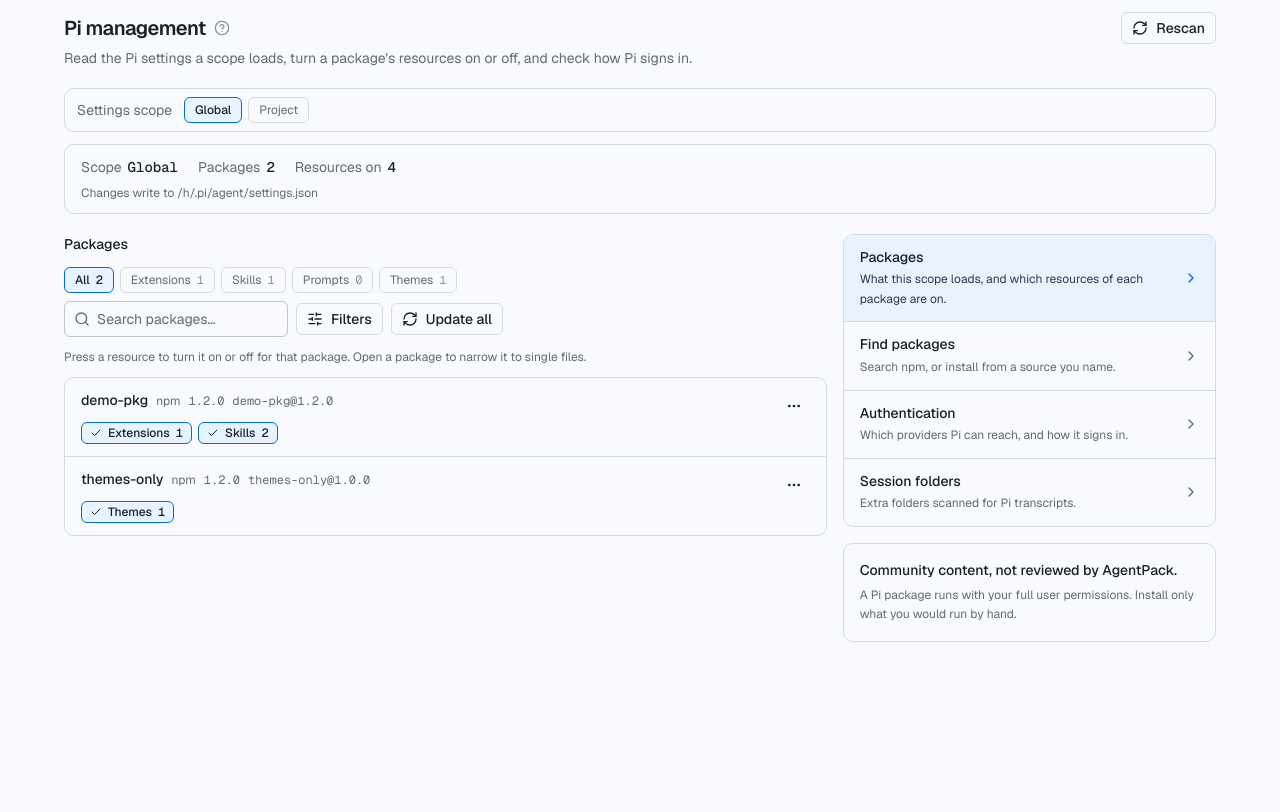
Test case: filters the list by resource kind and by search text
Step 1. Click the 1st button "Themes 1" → coordinates (418, 280), box [379,267,457,293]
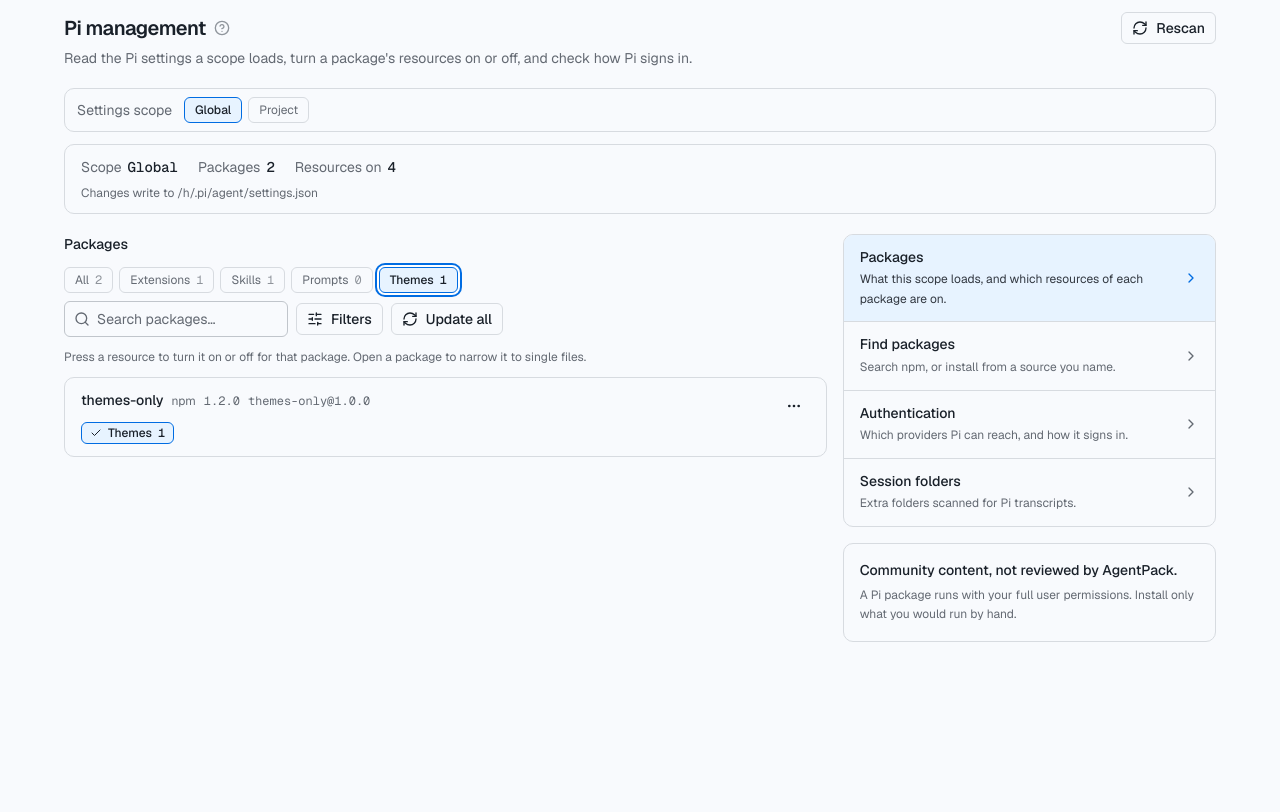
Check: the text "themes-only" is shown, box [81,391,164,409]
Check: the button "demo-pkg" is gone
Step 2. Click the button "All 2" → coordinates (89, 280), box [64,267,113,293]
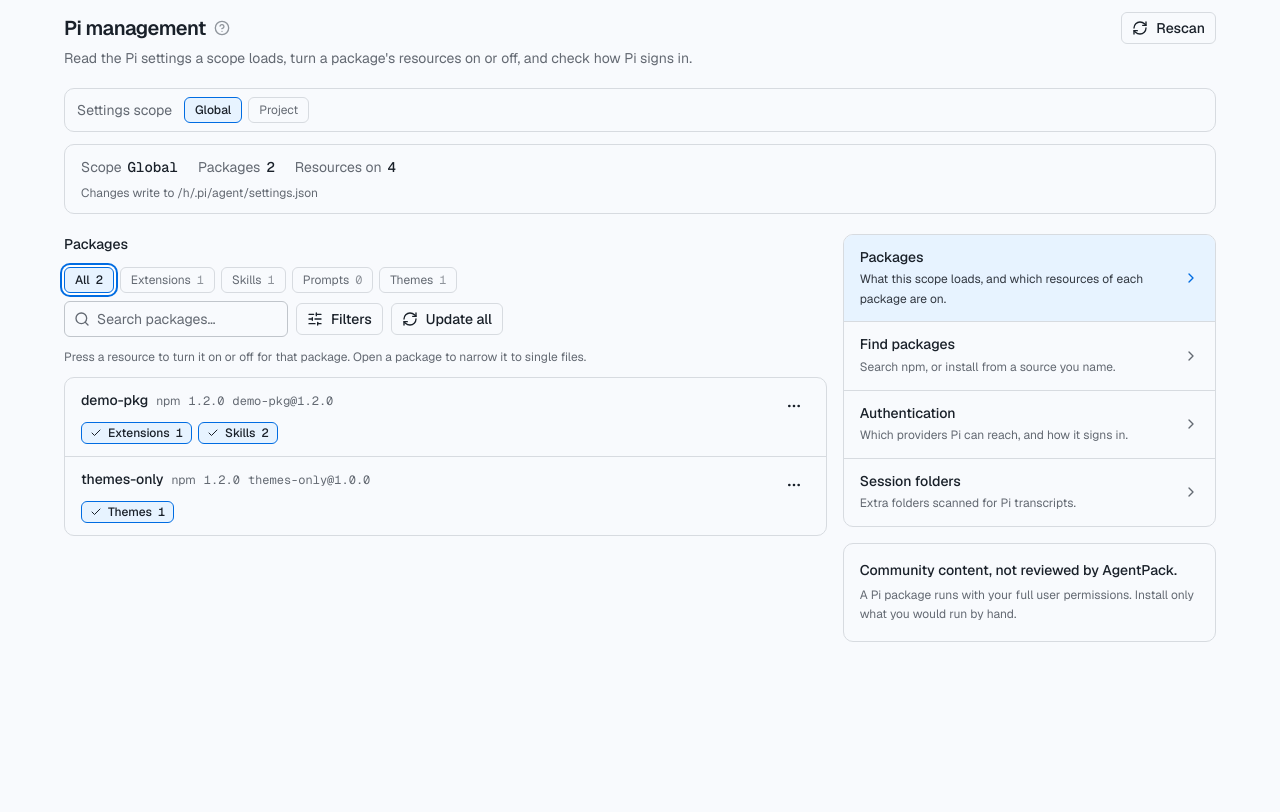
Step 3. Type "nothing" into the field labelled "Search packages…" → coordinates (176, 319), box [64,301,288,337]
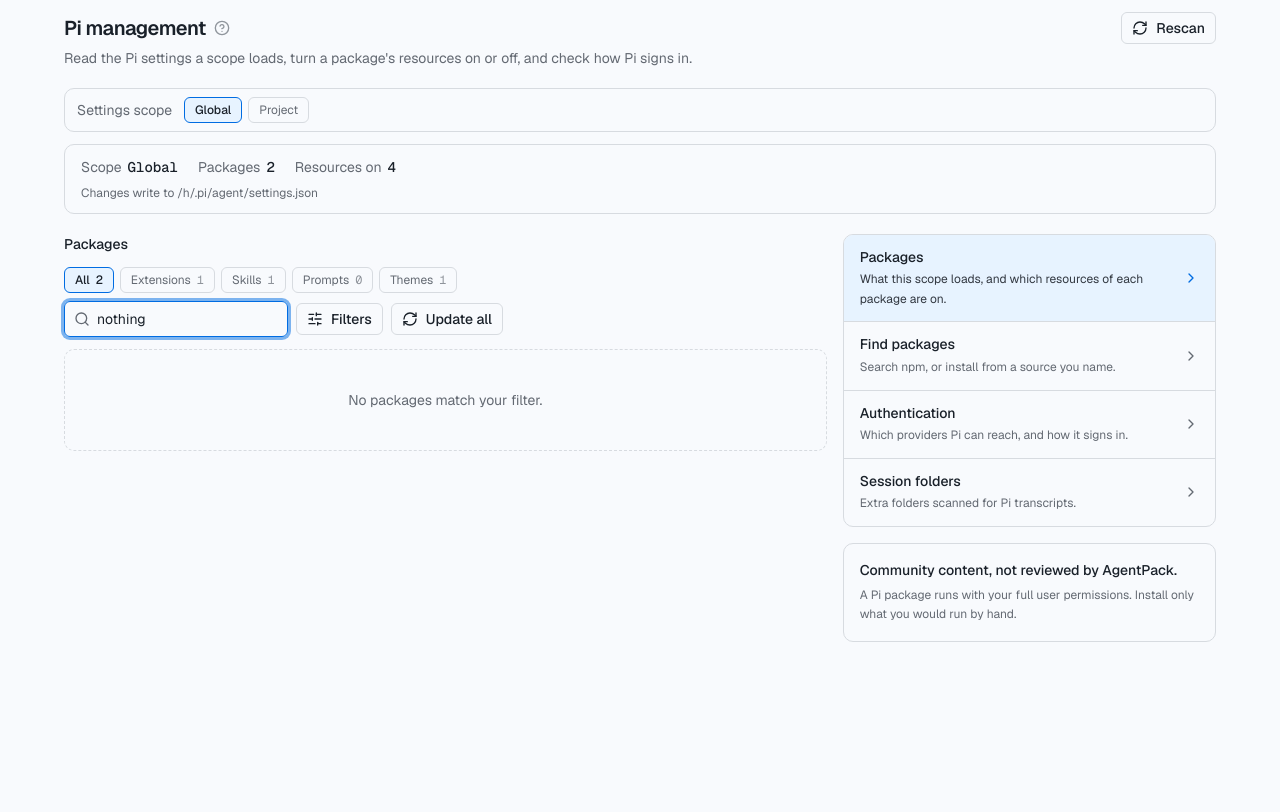
Check: the text "No packages match your filter." is shown, box [348,390,542,410]
